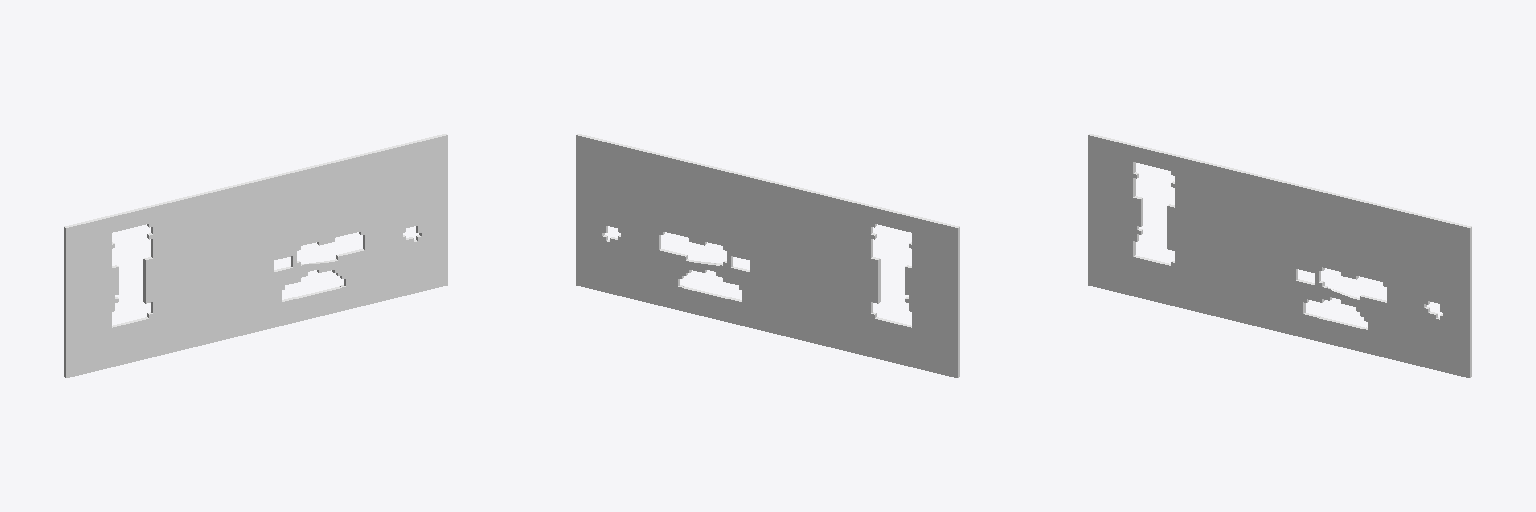
Rendered from Wall1.obj.
The picture shows the model from 3 angles: view 1: azimuth 30°, elevation 25°; view 2: azimuth 150°, elevation 25°; view 3: azimuth 330°, elevation 25°; orthographic projection.
Parts seen in each view (by area): view 1: Floral_Caves_Hunt__-425_5_-403_to_-325_42_-403; view 2: Floral_Caves_Hunt__-425_5_-403_to_-325_42_-403; view 3: Floral_Caves_Hunt__-425_5_-403_to_-325_42_-403.
Boxes of the visible parts, x1,y1,x2,y2 form: Floral_Caves_Hunt__-425_5_-403_to_-325_42_-403: [64, 134, 447, 377]; Floral_Caves_Hunt__-425_5_-403_to_-325_42_-403: [576, 134, 959, 377]; Floral_Caves_Hunt__-425_5_-403_to_-325_42_-403: [1088, 134, 1471, 377].
Size of the model in its own units: 101 by 38 by 1.